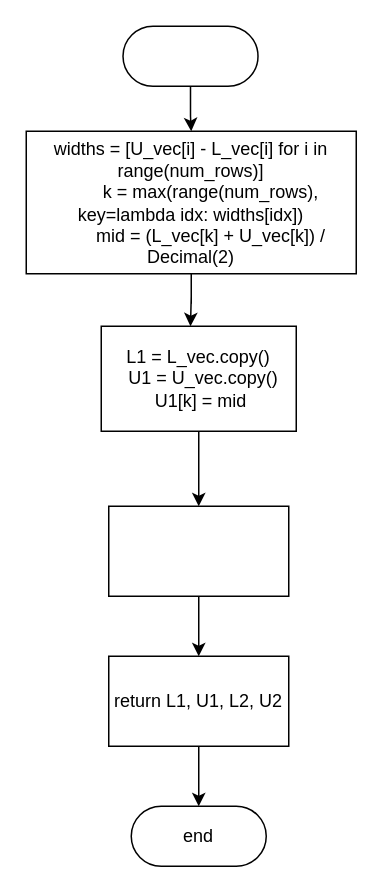
The diagram is 383 pixels wide and 893 high, and some of its shapes have lost their labels. The centre of each missing label's shape, as x and y in pixels:
"begin" goes at [190,55].
"L2 = L_vec.copy() U2 = U_vec.copy() L2[k] = mid" goes at [198,550].
